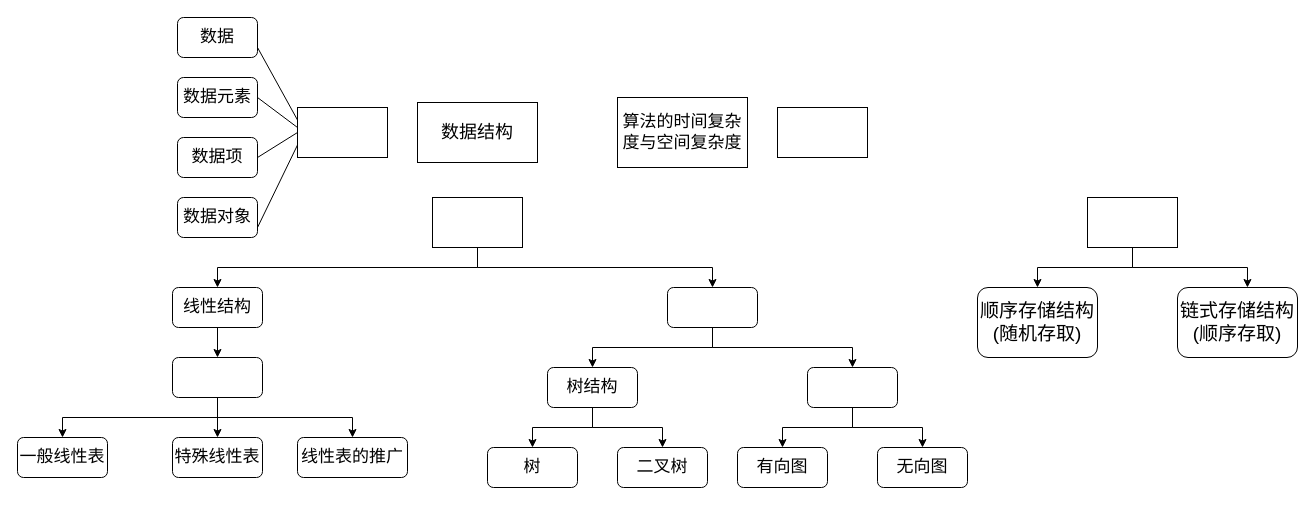
Some shapes in this 1315 by 505 pixel diagram are drawn without their labels. Here are the shapes that lost their labels. From the top down, the centre of each, then its label:
At point (342, 132): "基本概念".
At point (822, 132): "计算".
At point (477, 222): "逻辑结构".
At point (1132, 222): "存储结构".
At point (712, 307): "非线性结构".
At point (217, 377): "线性表".
At point (852, 387): "图结构".
